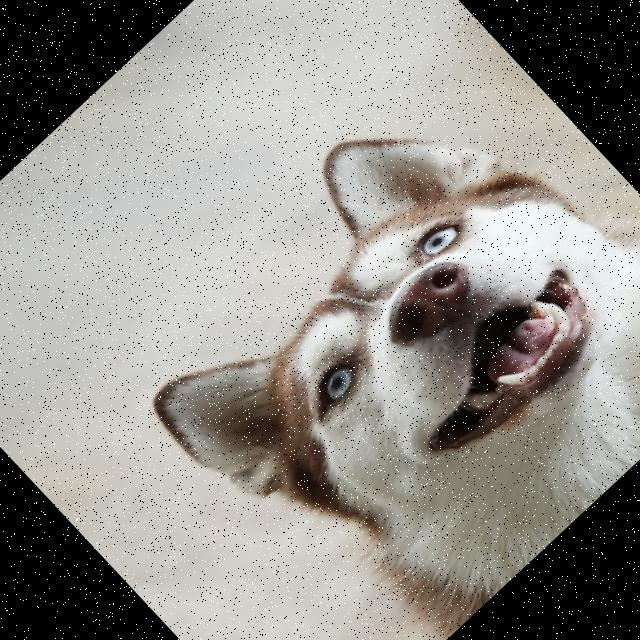Dog: (102, 16, 640, 640)
